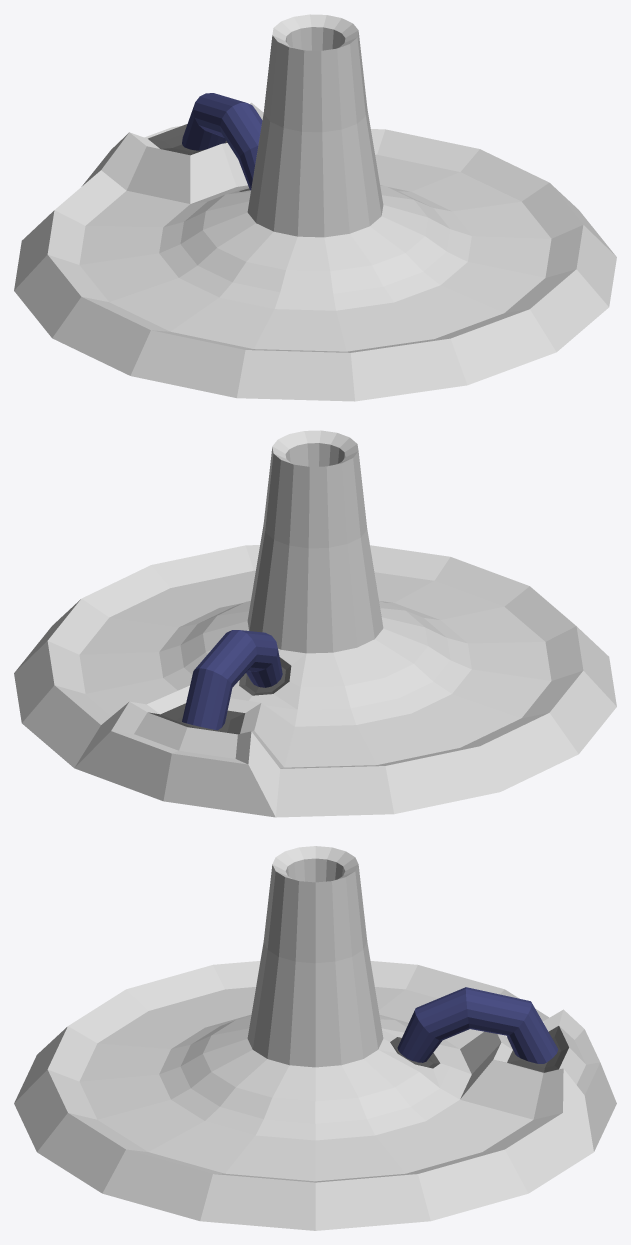
File: baseEo (1).fbx
3 renders of one model, top to bottom at view 1: azimuth 30°, elevation 25°; view 2: azimuth 150°, elevation 25°; view 3: azimuth 270°, elevation 25°, orthographic.
Parts seen in each view (by area): view 1: Circle.016; view 2: Circle.016; view 3: Circle.016.
Boxes of the visible parts, x1,y1,x2,y2 form: Circle.016: (14,14,616,401); Circle.016: (14,430,616,817); Circle.016: (14,846,616,1230).
Size of the model in its own units: 200 by 87.59 by 200.
